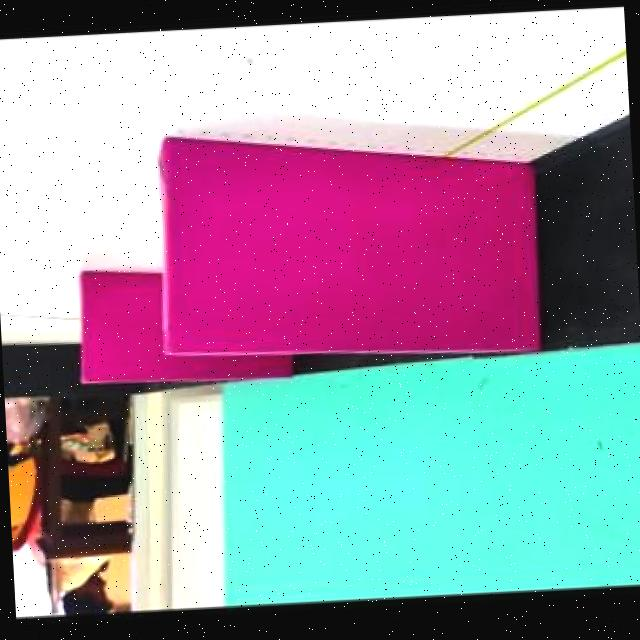xparking: (163, 113, 540, 348), (77, 265, 166, 382)
